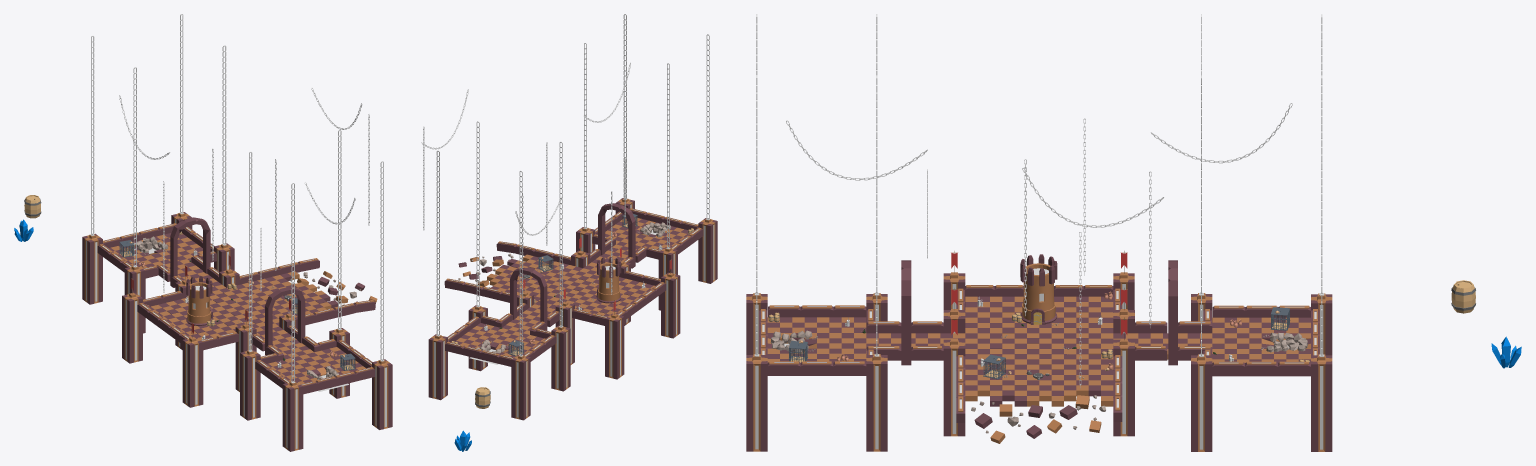
Rendered from hell 01.fbx.
The picture shows the model from 3 angles, left to right: view 1: azimuth 30°, elevation 25°; view 2: azimuth 150°, elevation 25°; view 3: azimuth 270°, elevation 25°; orthographic projection. The views are drawn at different scales.
Parts seen in each view (by area): view 1: Cube.022, Cube.040, Cube.050, Cube.002, Cube.043, Cube.044, Cube, Cube.042, Cube.052, Tower.003, Plane.006, Plane (+19 smaller); view 2: Cube.022, Cube.050, Cube.040, Cube, Cube.052, Cube.051, Cube.002, Cube.059, Cube.043, Tower.003, Plane.006, Plane (+21 smaller); view 3: Cube.022, Cube.040, Cube.050, Cube.041, Cube.044, Cube.051, Cube.058, Tower.003, Cube.004, Cube.054, Cube.012, Cube.045 (+9 smaller).
Boxes of the visible parts, <box> form: Cube.022: <box>149,271,337,339</box>; Cube.040: <box>267,347,365,384</box>; Cube.050: <box>109,233,202,268</box>; Cube.002: <box>182,337,203,407</box>; Cube.043: <box>282,381,303,451</box>; Cube.044: <box>372,359,392,429</box>; Cube: <box>122,292,142,363</box>; Cube.042: <box>240,349,260,420</box>; Cube.052: <box>82,233,102,304</box>; Tower.003: <box>186,275,212,325</box>; Plane.006: <box>265,287,305,355</box>; Plane: <box>170,217,210,287</box>; Cube.022: <box>487,254,654,316</box>; Cube.050: <box>455,323,545,357</box>; Cube.040: <box>605,217,688,250</box>; Cube: <box>605,313,624,379</box>; Cube.052: <box>511,354,530,420</box>; Cube.051: <box>428,334,447,400</box>; Cube.002: <box>661,272,680,338</box>; Cube.059: <box>551,325,570,391</box>; Cube.043: <box>698,218,717,283</box>; Tower.003: <box>597,256,621,303</box>; Plane.006: <box>598,203,635,268</box>; Plane: <box>510,268,547,330</box>; Cube.022: <box>965,296,1113,406</box>; Cube.040: <box>767,317,866,362</box>; Cube.050: <box>1212,317,1310,362</box>; Cube.041: <box>866,354,887,451</box>; Cube.044: <box>746,354,767,451</box>; Cube.051: <box>1311,354,1332,451</box>; Cube.058: <box>1191,354,1212,451</box>; Tower.003: <box>1020,254,1057,323</box>; Cube.004: <box>943,338,965,436</box>; Cube.054: <box>1212,361,1310,376</box>; Cube.012: <box>1113,338,1134,436</box>; Cube.045: <box>767,361,866,375</box>.
Bounding box in the file's own units: 2245 × 2482 × 4693.
